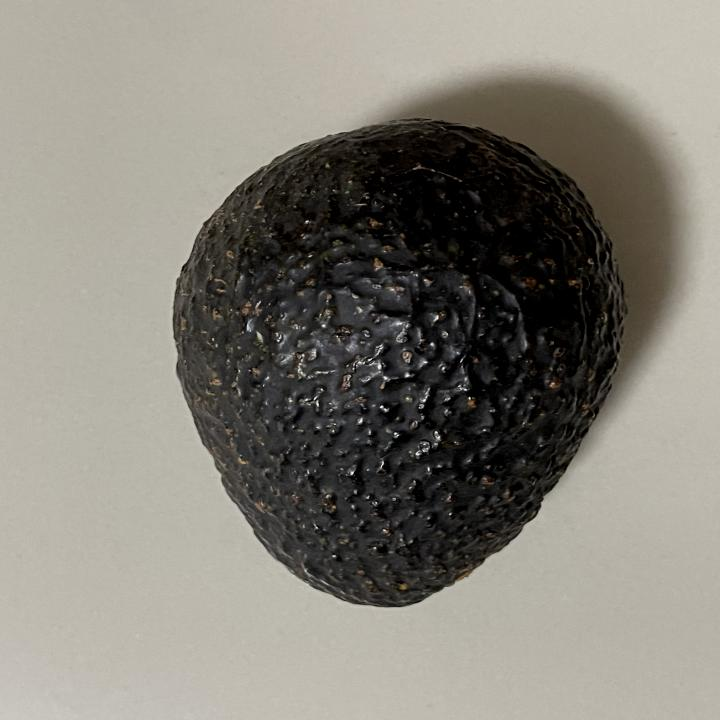Level3: (158, 107, 639, 617)
